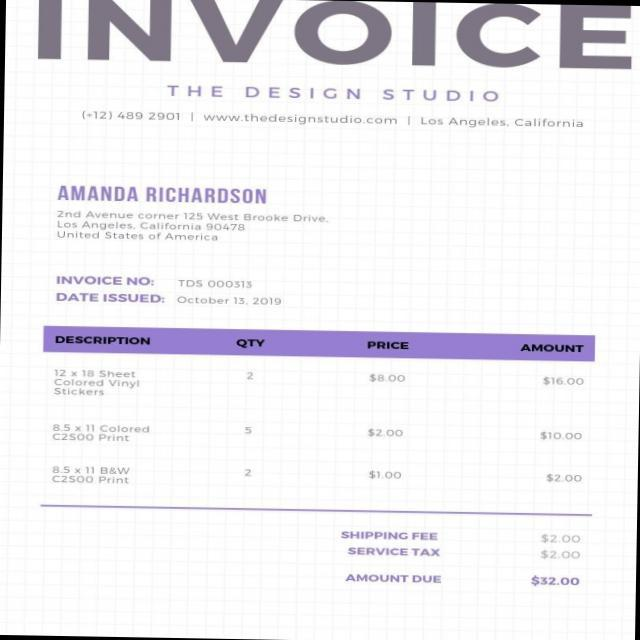invoice_date: (177, 290, 285, 312)
invoice_number: (177, 275, 256, 290)
invoice_subtotal: (535, 528, 584, 545)
invoice_total: (524, 572, 585, 592)
item_description: (47, 362, 155, 494)
item_quantity: (232, 364, 263, 492)
item_total_price: (529, 367, 589, 494)
item_unit_price: (356, 365, 412, 496)
supplier_address: (49, 208, 334, 247), (414, 111, 590, 136)
supplier_name: (160, 74, 511, 108), (52, 179, 270, 206)
tax_amount: (535, 547, 587, 562)
